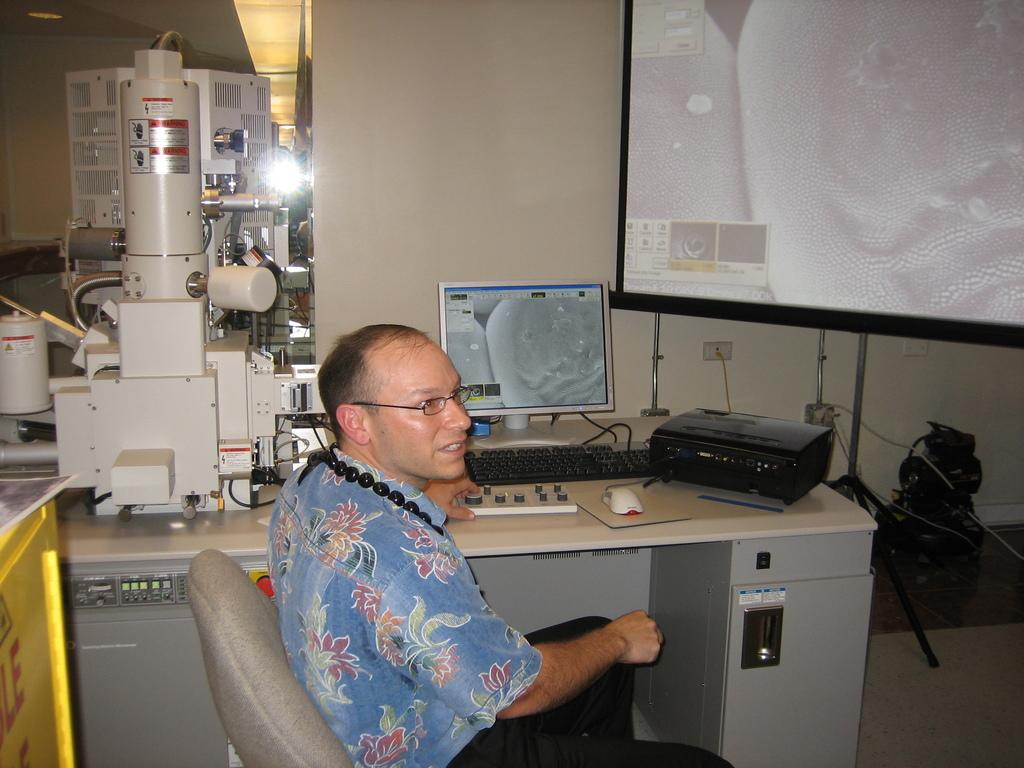Computer-monitor: (436, 278, 612, 456)
